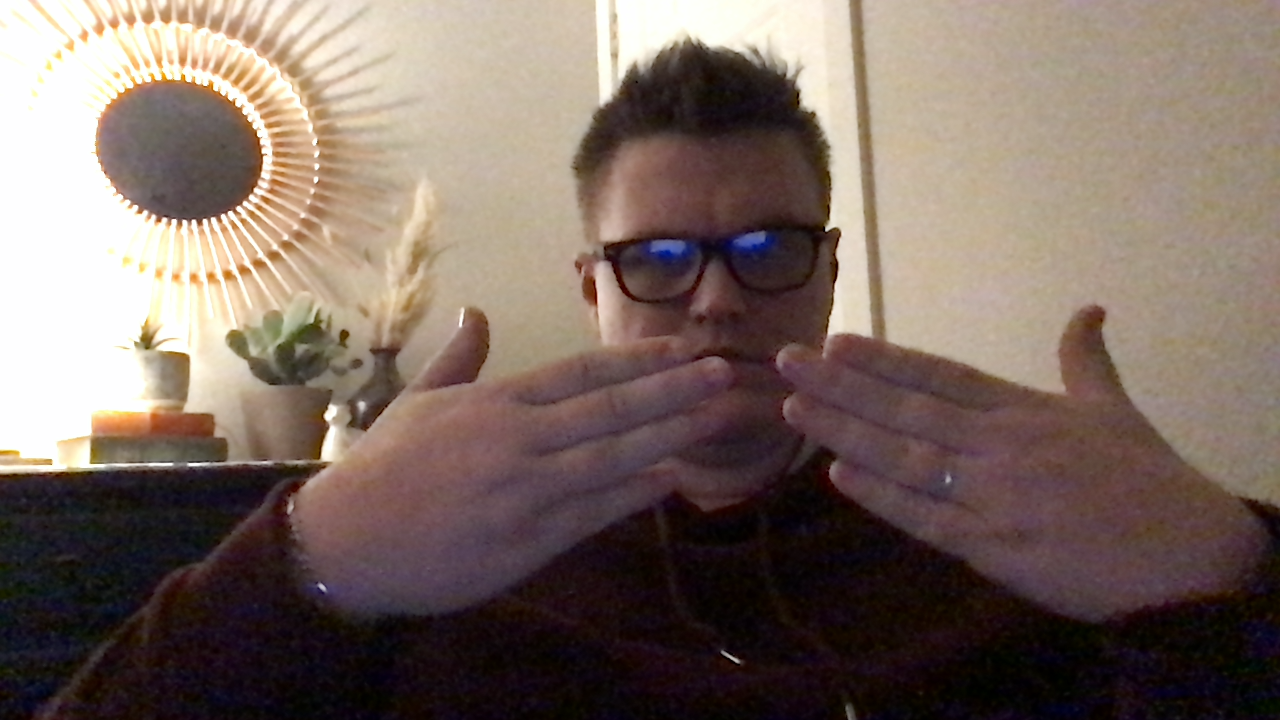thankyou: (292, 301, 1275, 625)
